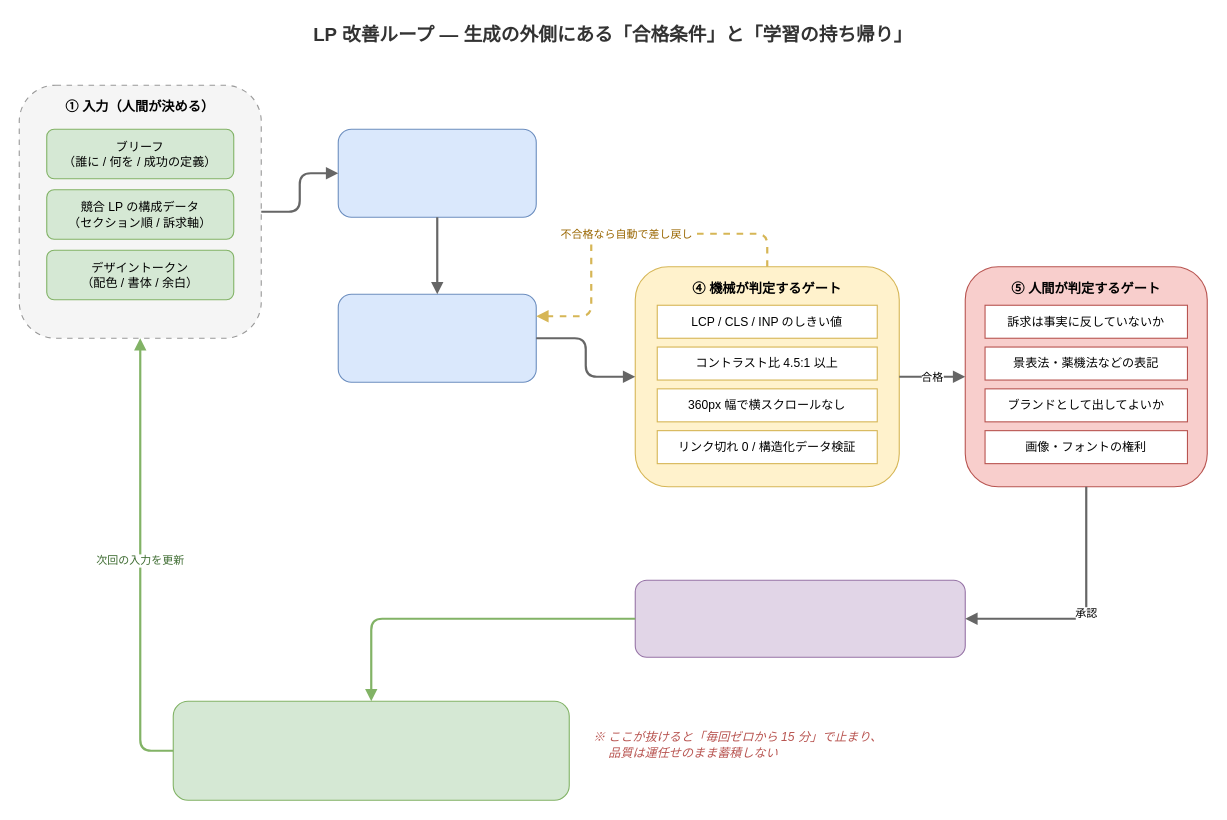
Image size: 1227x820. Some labels were removed from this diagram. Each missing label, with the centre of its shape:
② 構成設計 高 effort・1 回だけ （Fable 5 / Opus 5）: the point at 436,172
③ 実装・修正 低コストで何周も回す （Sonnet 5）: the point at 436,337
⑥ 公開して計測 CVR / スクロール到達率 / CTA クリック率: the point at 799,618
⑦ 学習を Skill に書き戻す SKILL.md / デザイントークン / 却下パターン集 → 次の LP は「前回の結論」から始まる: the point at 370,750
